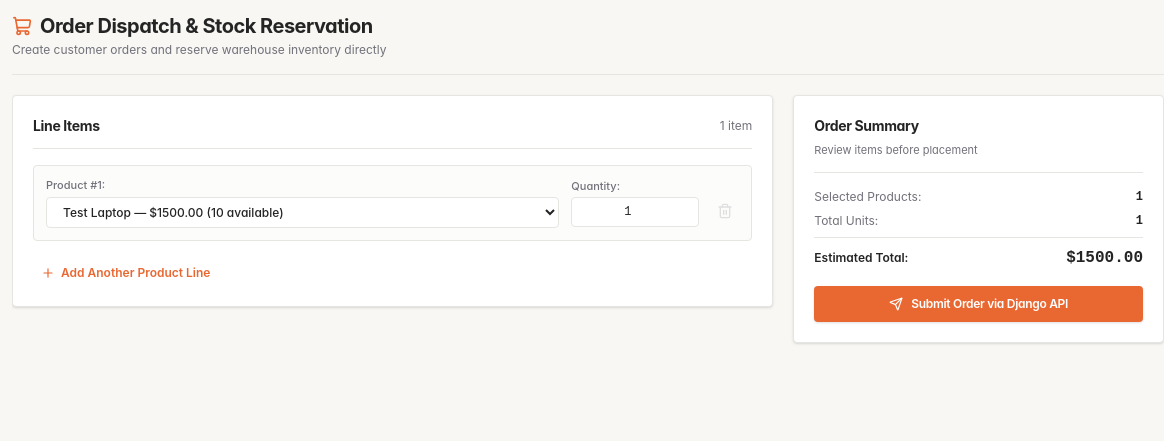
Scenario: OrdersPage — Primary Demo Slice › renders backend business rejection error on 400
Click the button "Submit Order via Django API" at (979, 304), box [814,286,1143,322]
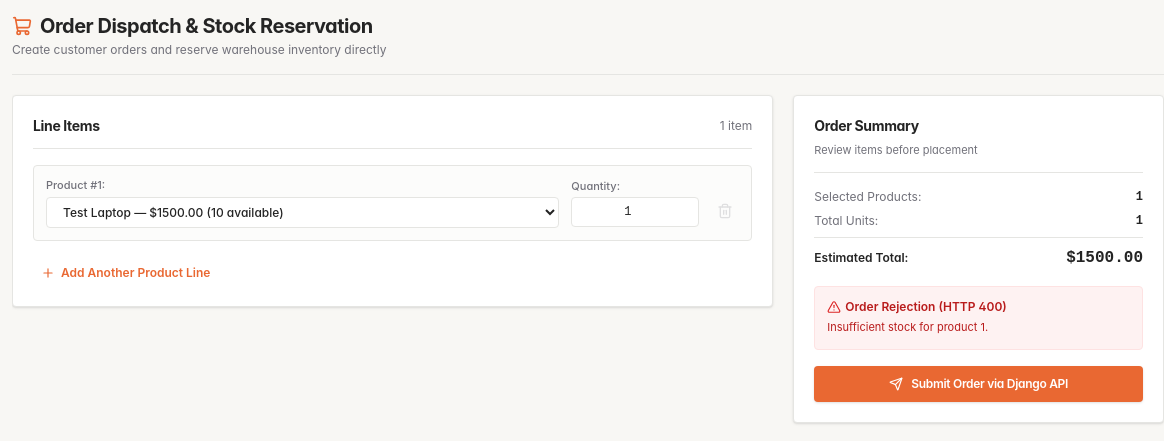
Now the text "Insufficient stock for product 1." is shown, box [827,320,988,334]
